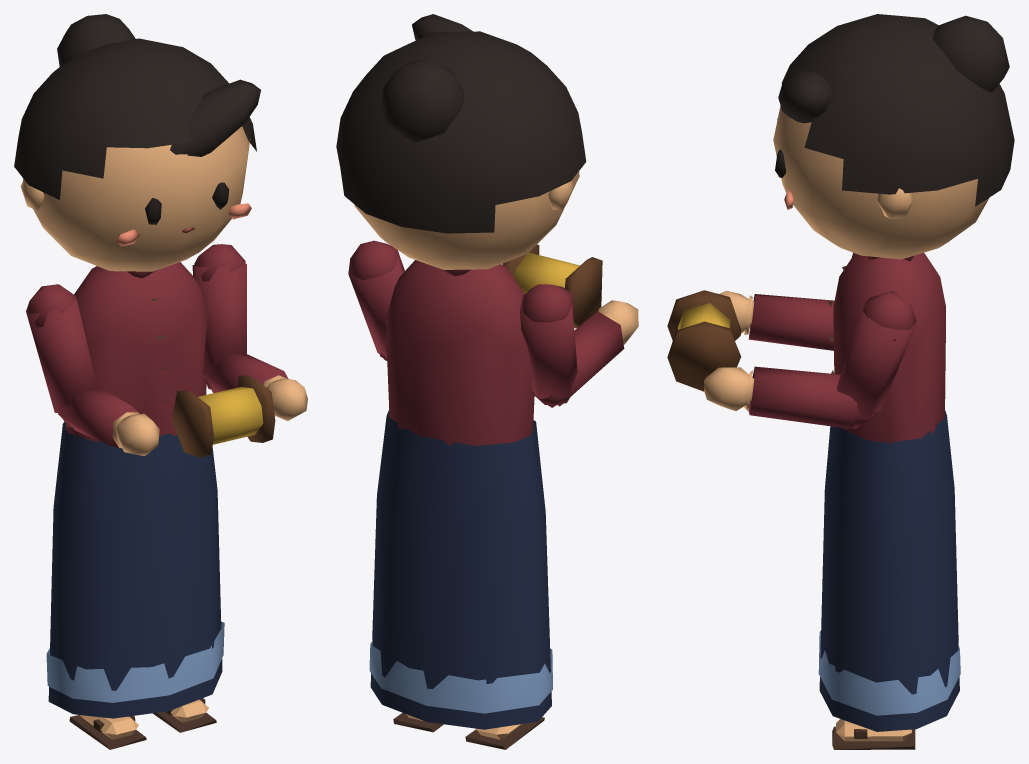
Rendered from isan_silk_spinner.glb.
3 renders of one model, left to right at view 1: azimuth 30°, elevation 25°; view 2: azimuth 150°, elevation 25°; view 3: azimuth 270°, elevation 25°, orthographic. The views are drawn at different scales.
Parts seen in each view (by area): view 1: body, head, prop_thread_spool, arm_R, arm_L, forearm_R, forearm_L, shin_R, shin_L; view 2: body, head, arm_R, arm_L, prop_thread_spool, forearm_R, shin_R; view 3: body, head, forearm_L, arm_L, prop_thread_spool, forearm_R, shin_L.
Part boxes in pixels (<box>): body: <box>46,262,224,718</box>; head: <box>14,14,260,271</box>; prop_thread_spool: <box>171,375,275,457</box>; arm_R: <box>26,284,97,412</box>; arm_L: <box>192,244,246,373</box>; forearm_R: <box>58,386,159,456</box>; forearm_L: <box>202,352,307,420</box>; shin_R: <box>69,715,146,749</box>; shin_L: <box>153,698,216,732</box>; body: <box>369,260,552,729</box>; head: <box>336,14,586,269</box>; arm_R: <box>520,284,577,407</box>; arm_L: <box>348,240,404,360</box>; prop_thread_spool: <box>502,244,602,328</box>; forearm_R: <box>532,300,638,406</box>; shin_R: <box>465,717,544,749</box>; body: <box>818,252,960,731</box>; head: <box>773,14,1014,259</box>; forearm_L: <box>704,366,876,429</box>; arm_L: <box>836,291,917,428</box>; prop_thread_spool: <box>667,290,741,391</box>; forearm_R: <box>719,290,834,350</box>; shin_L: <box>832,719,915,749</box>.
Size of the model in its own units: 0.4966 by 1.47 by 0.6572.
